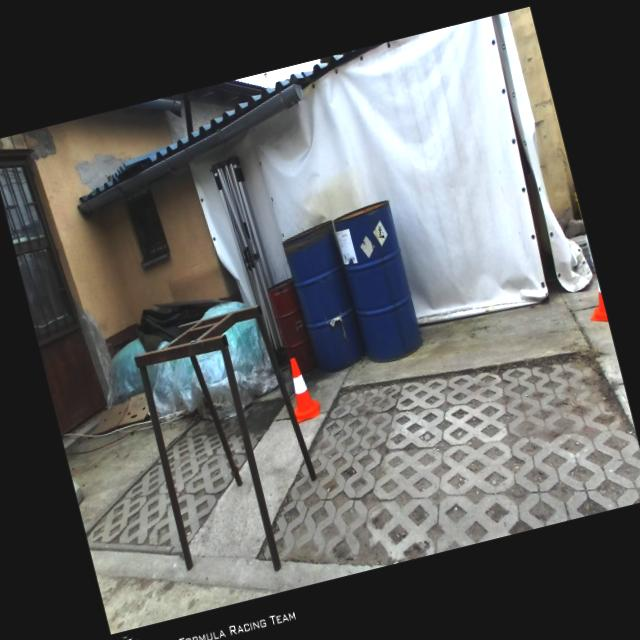orange_cone: (280, 353, 322, 422), (580, 272, 608, 326)
